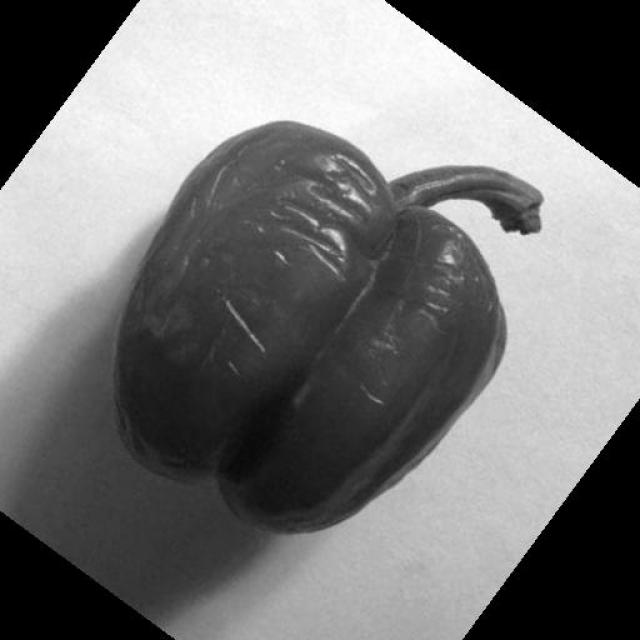Stale_Capsicum: (189, 95, 547, 542)
